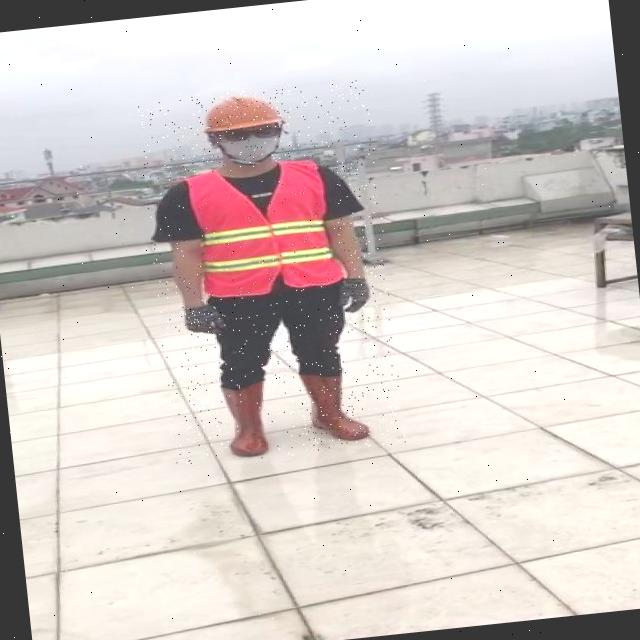helmet: (196, 89, 286, 136)
vest: (181, 157, 343, 299)
